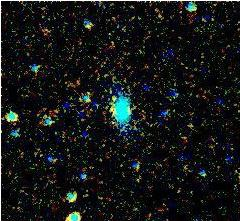star: (99, 82, 129, 112)
